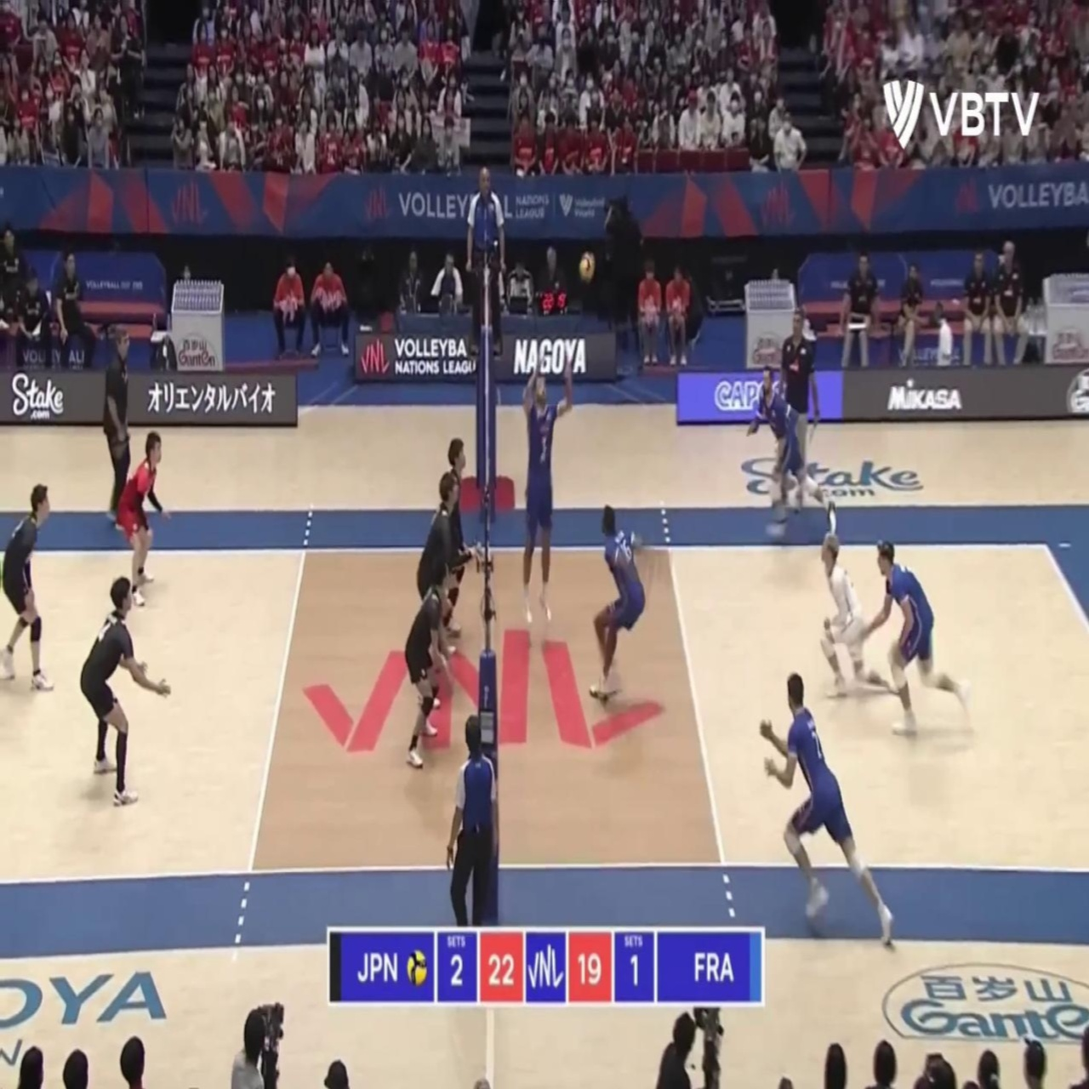ball: (578, 250, 595, 282)
